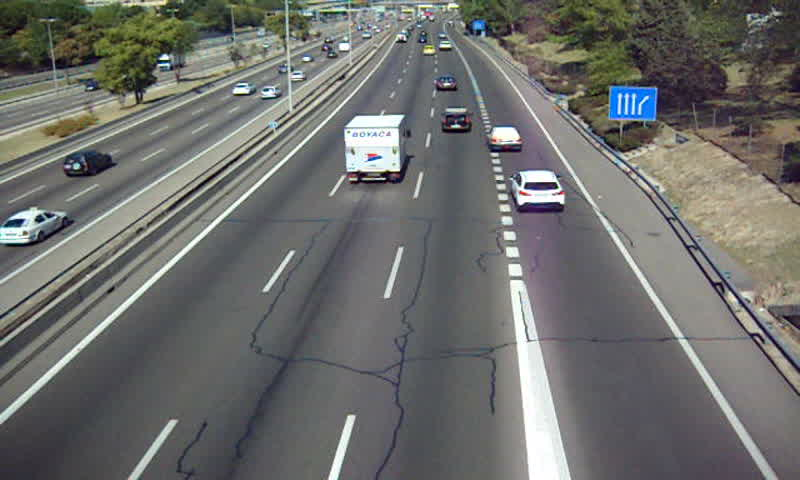car: (510, 171, 567, 213), (486, 126, 522, 151), (440, 108, 474, 130), (436, 75, 457, 91), (421, 43, 436, 56), (438, 39, 453, 49)
small-truck: (343, 114, 409, 181)
